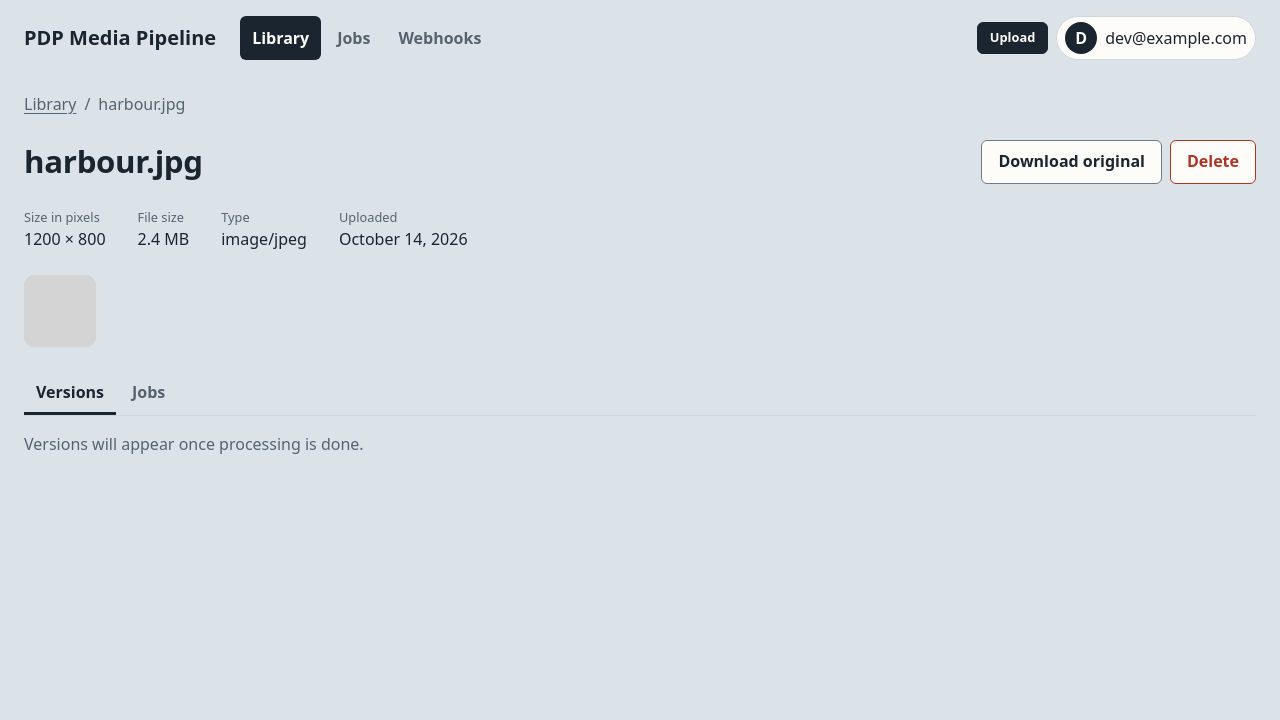
Test: file page › lists the jobs on the file with what went wrong
Click the tab "Jobs".
click(149, 393)  # box [120,371,177,415]
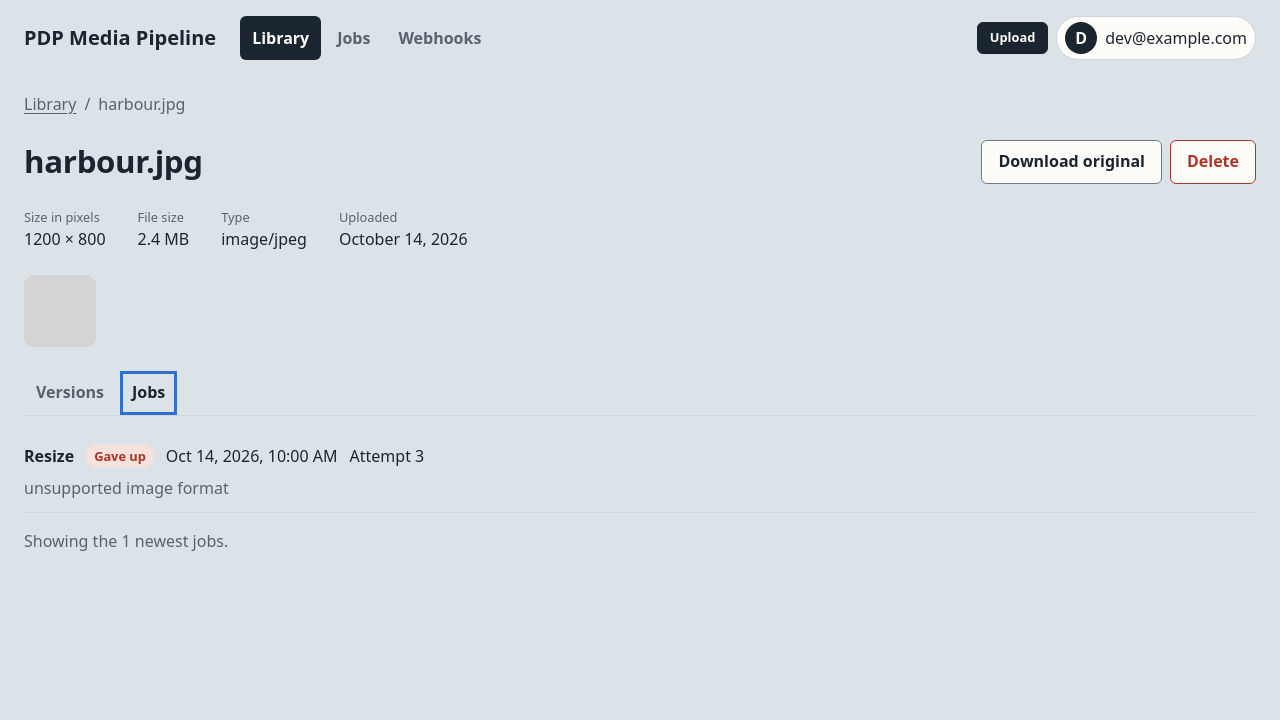
Check: the text "Resize" is shown, box [24,444,74,468]
Check: the text "Gave up" is shown, box [86,445,154,467]
Check: the text "Attempt 3" is shown, box [350,444,424,468]
